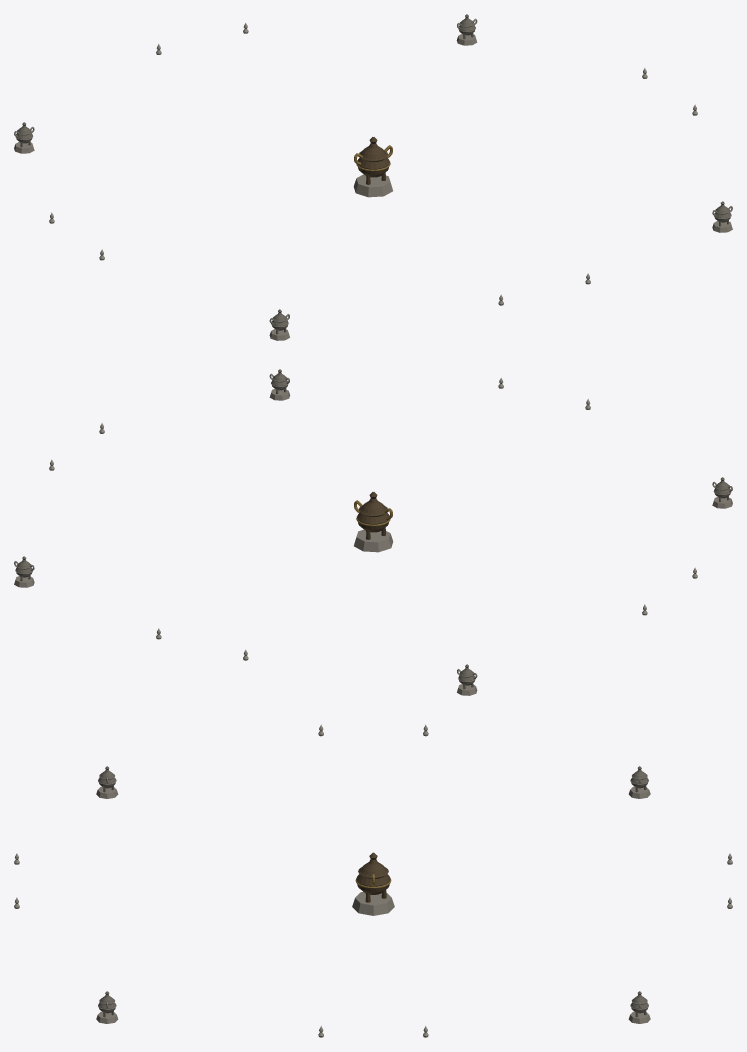
The model's file is xatac-hero.glb.
3 renders of one model, top to bottom at view 1: azimuth 30°, elevation 25°; view 2: azimuth 150°, elevation 25°; view 3: azimuth 270°, elevation 25°, orthographic. The views are drawn at different scales.
Parts seen in each view (by area): view 1: xatac_hero_ornaments; view 2: xatac_hero_ornaments; view 3: xatac_hero_ornaments.
Part boxes in pixels (x1,y1,x2,y2): xatac_hero_ornaments: (14, 14, 732, 340); xatac_hero_ornaments: (14, 369, 732, 695); xatac_hero_ornaments: (14, 724, 732, 1037).
Bounding box in the file's own units: 30.24 × 2.52 × 30.25.
